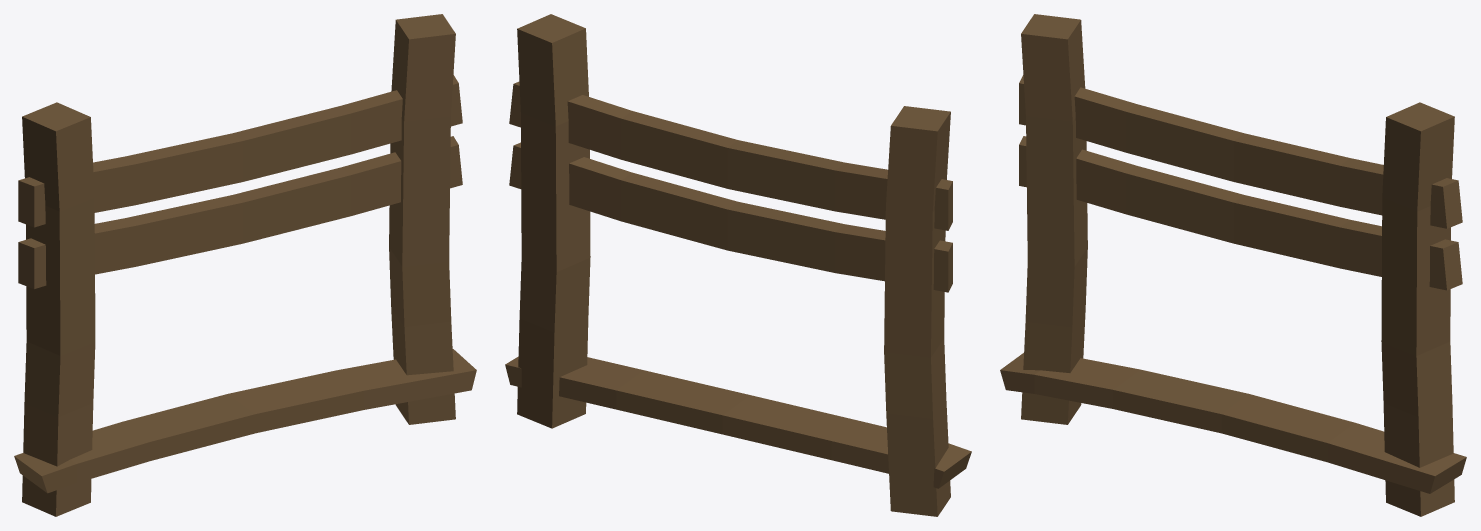
File: Stand_2.fbx
3 views of the same model, side by side, from view 1: azimuth 30°, elevation 25°; view 2: azimuth 150°, elevation 25°; view 3: azimuth 330°, elevation 25° (orthographic).
Visible parts, largest first — view 1: Stand_2; view 2: Stand_2; view 3: Stand_2.
Boxes of the visible parts, x1,y1,x2,y2 form: Stand_2: (14,14,476,516); Stand_2: (505,14,971,516); Stand_2: (1000,14,1466,516).
Size of the model in its own units: 163 by 137 by 21.88.
